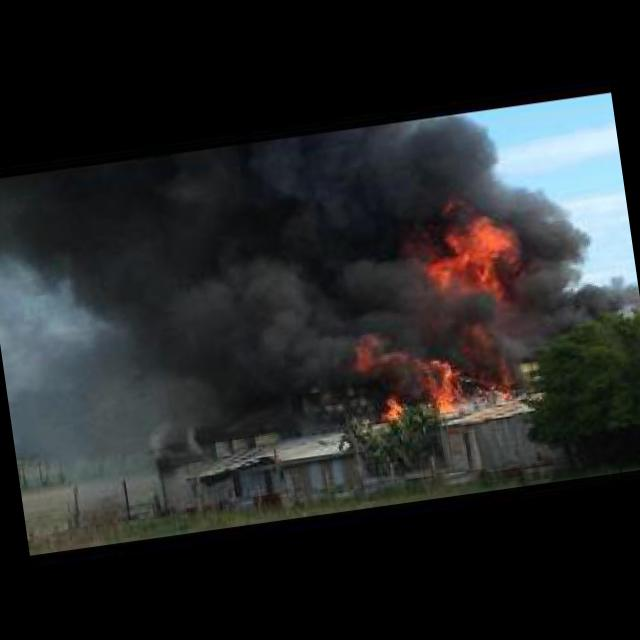fire: (356, 332, 466, 420), (442, 186, 507, 316), (481, 352, 518, 400), (382, 389, 404, 416)
smoke: (0, 96, 603, 445)
